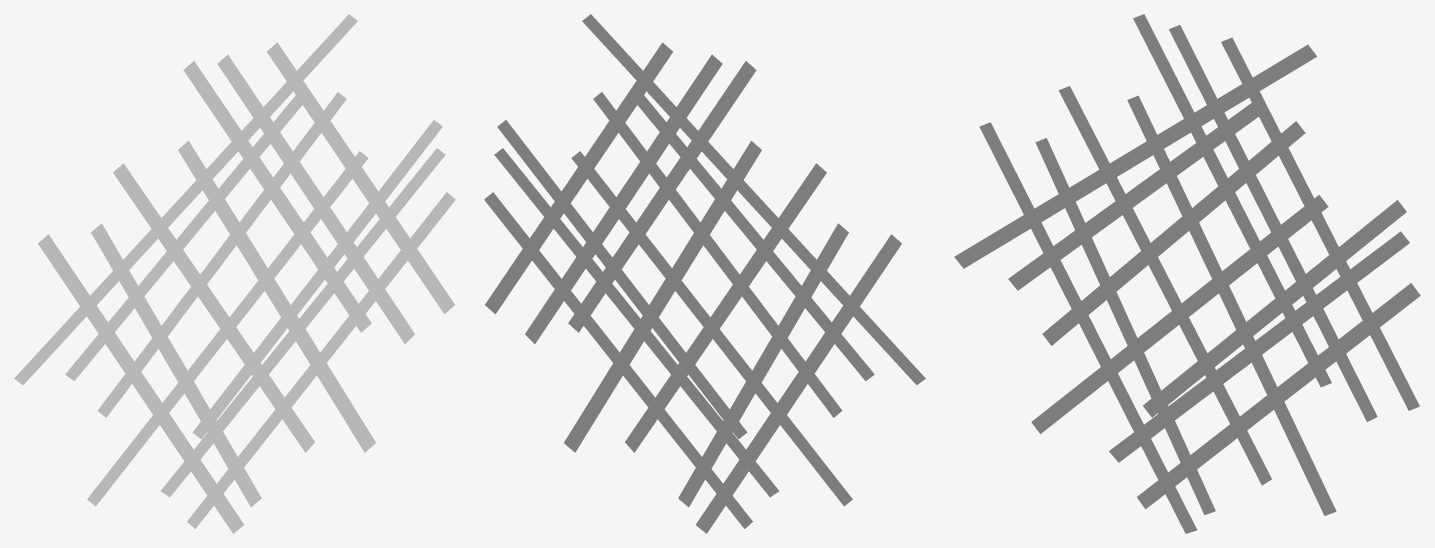
The model's file is bruise.fbx.
3 views of the same model, side by side, from view 1: azimuth 30°, elevation 25°; view 2: azimuth 150°, elevation 25°; view 3: azimuth 330°, elevation 25° (orthographic). The views are drawn at different scales.
Parts seen in each view (by area): view 1: Plane.001; view 2: Plane.001; view 3: Plane.001.
Boxes of the visible parts, <box> form: Plane.001: <box>14,14,455,533</box>; Plane.001: <box>484,14,925,533</box>; Plane.001: <box>954,14,1420,533</box>.
Bounding box in the file's own units: 0.1976 × 0.2101 × 2.43e-08.
